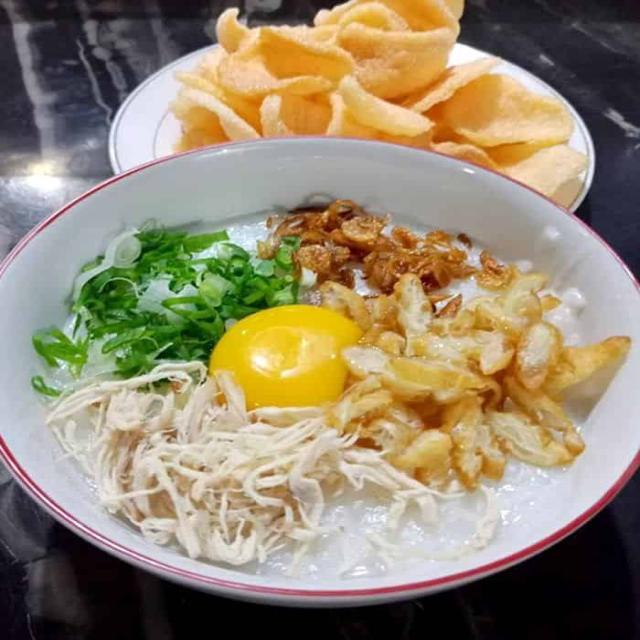bubur ayam: (42, 201, 591, 584)
mangkuk: (0, 138, 638, 612)
